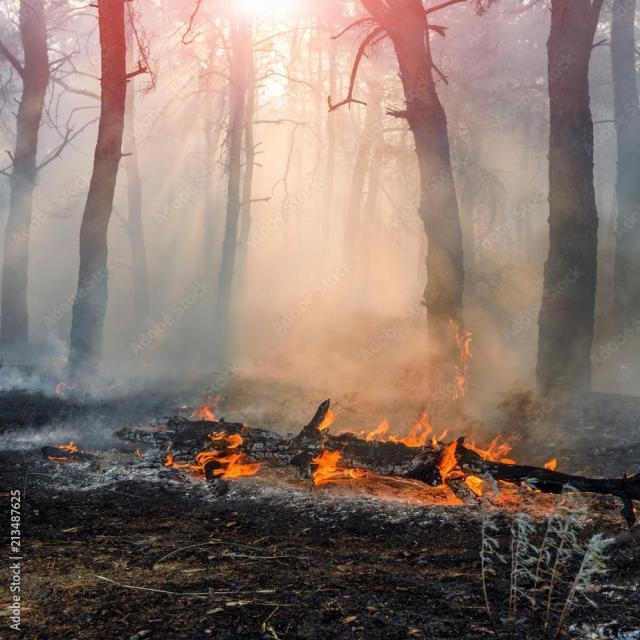Fire: (406, 418, 581, 511), (142, 423, 256, 489), (312, 403, 403, 463), (312, 451, 338, 486), (406, 414, 432, 447), (441, 443, 459, 481)
Smoke: (0, 99, 439, 382), (352, 100, 640, 389)
